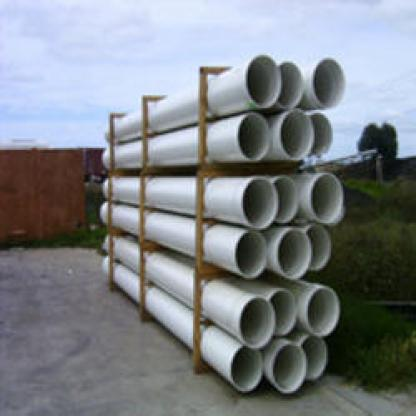PVC: (99, 56, 348, 395)
